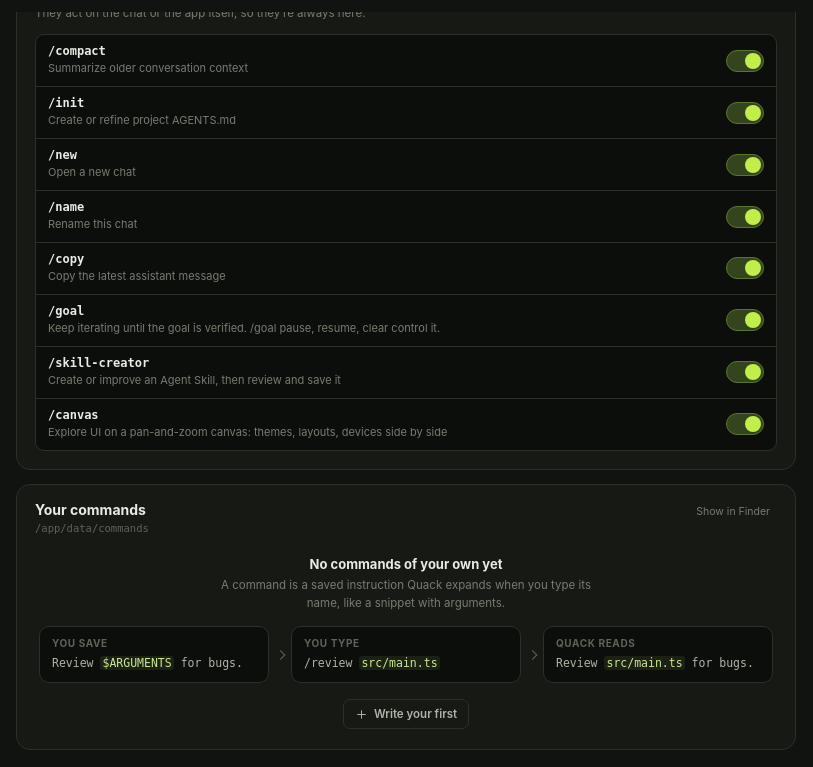
Scenario: CommandsSection › walks through a command in the empty state, in the agent's name, and opens the editor from it
(page scrolled)
Expected: the number of list items is 3, [39,626,269,683]; [291,626,521,683]; [543,626,773,683]
Expected: the text "Quack reads" is shown, [556,637,635,649]
Click the button "Write your first" at [406, 714], box [343,699,469,729]
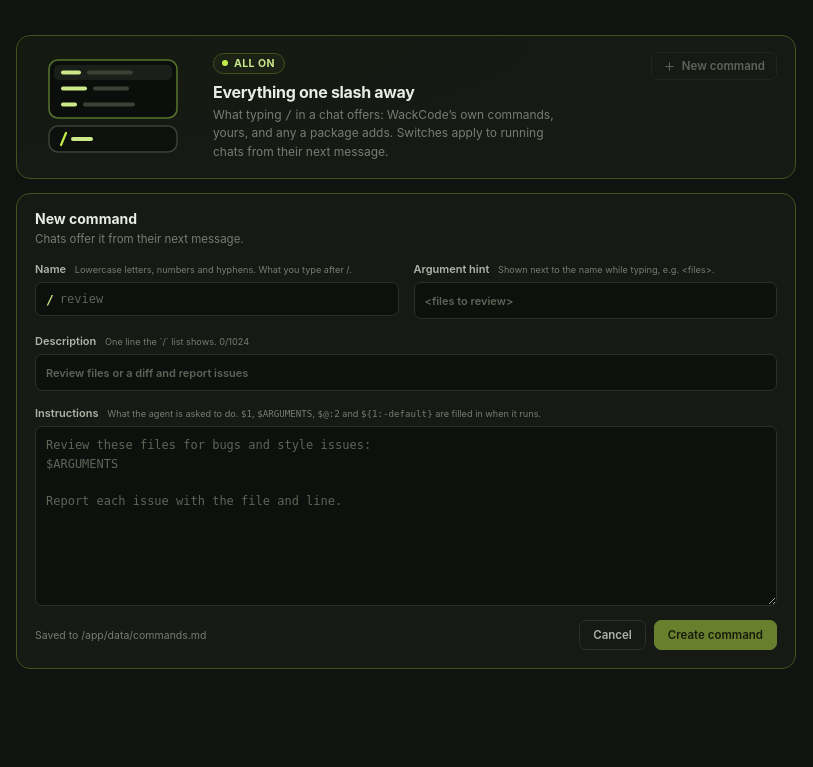
Result: the heading "New command" is shown at [35,210,137,227]
Result: the button "New command" is disabled at [651,52,777,80]
